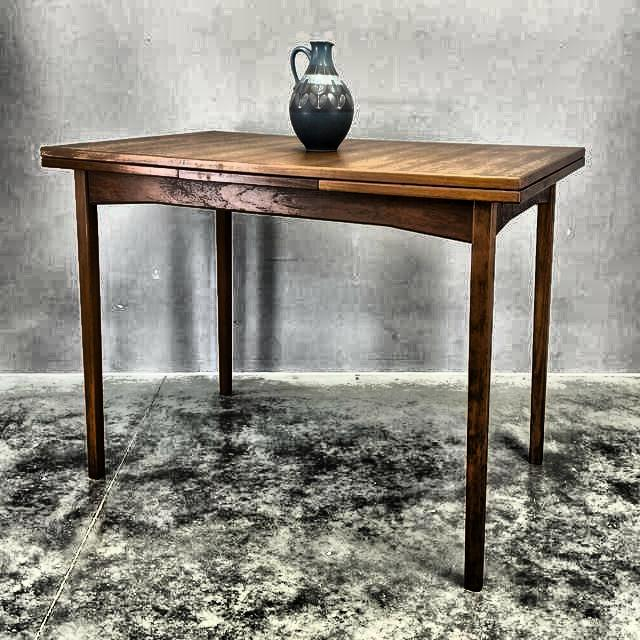mesa: (35, 101, 602, 609)
